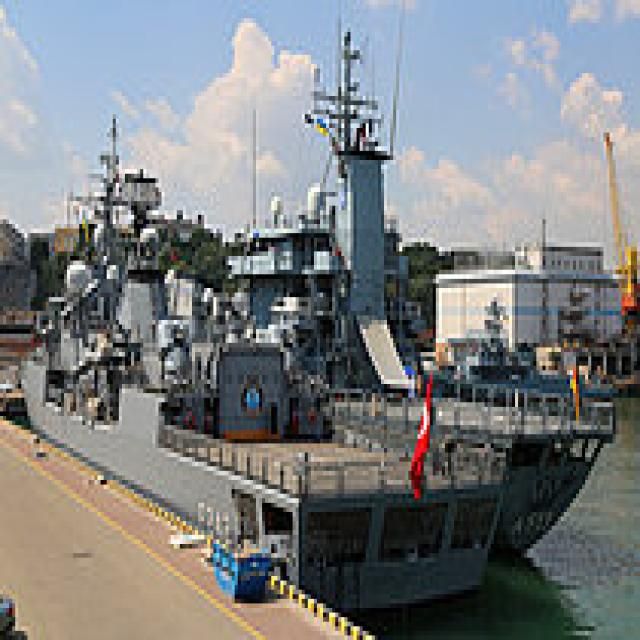Warship: (12, 110, 506, 603), (286, 18, 618, 567)
